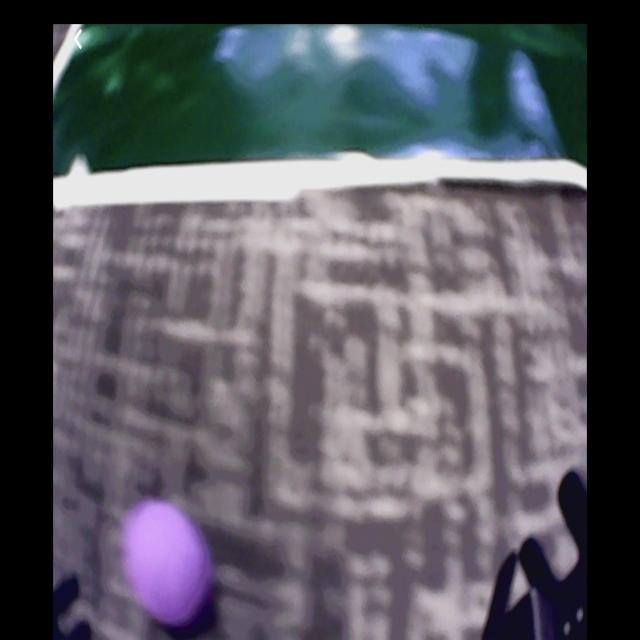ball: (130, 499, 210, 629)
